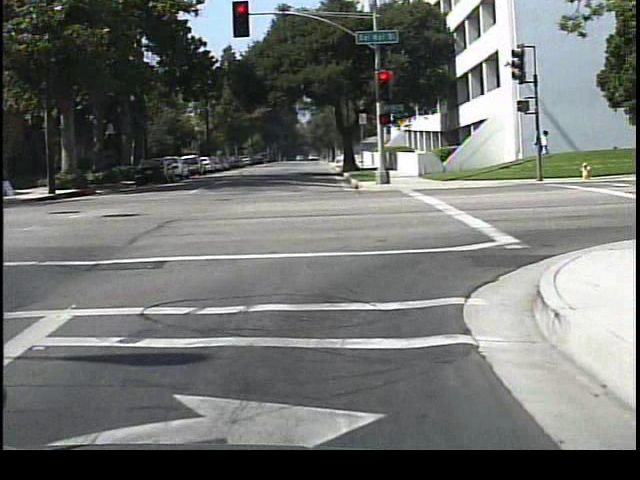person: (528, 127, 551, 175)
